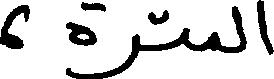X: (66, 0, 95, 78), (0, 0, 28, 53), (109, 29, 137, 78), (258, 0, 273, 59), (231, 1, 246, 57), (208, 27, 219, 55), (179, 23, 188, 52)
